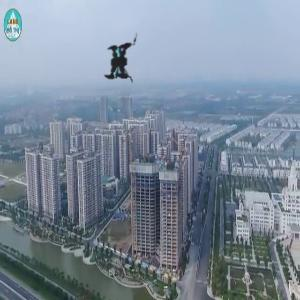drone: (74, 13, 174, 113)
